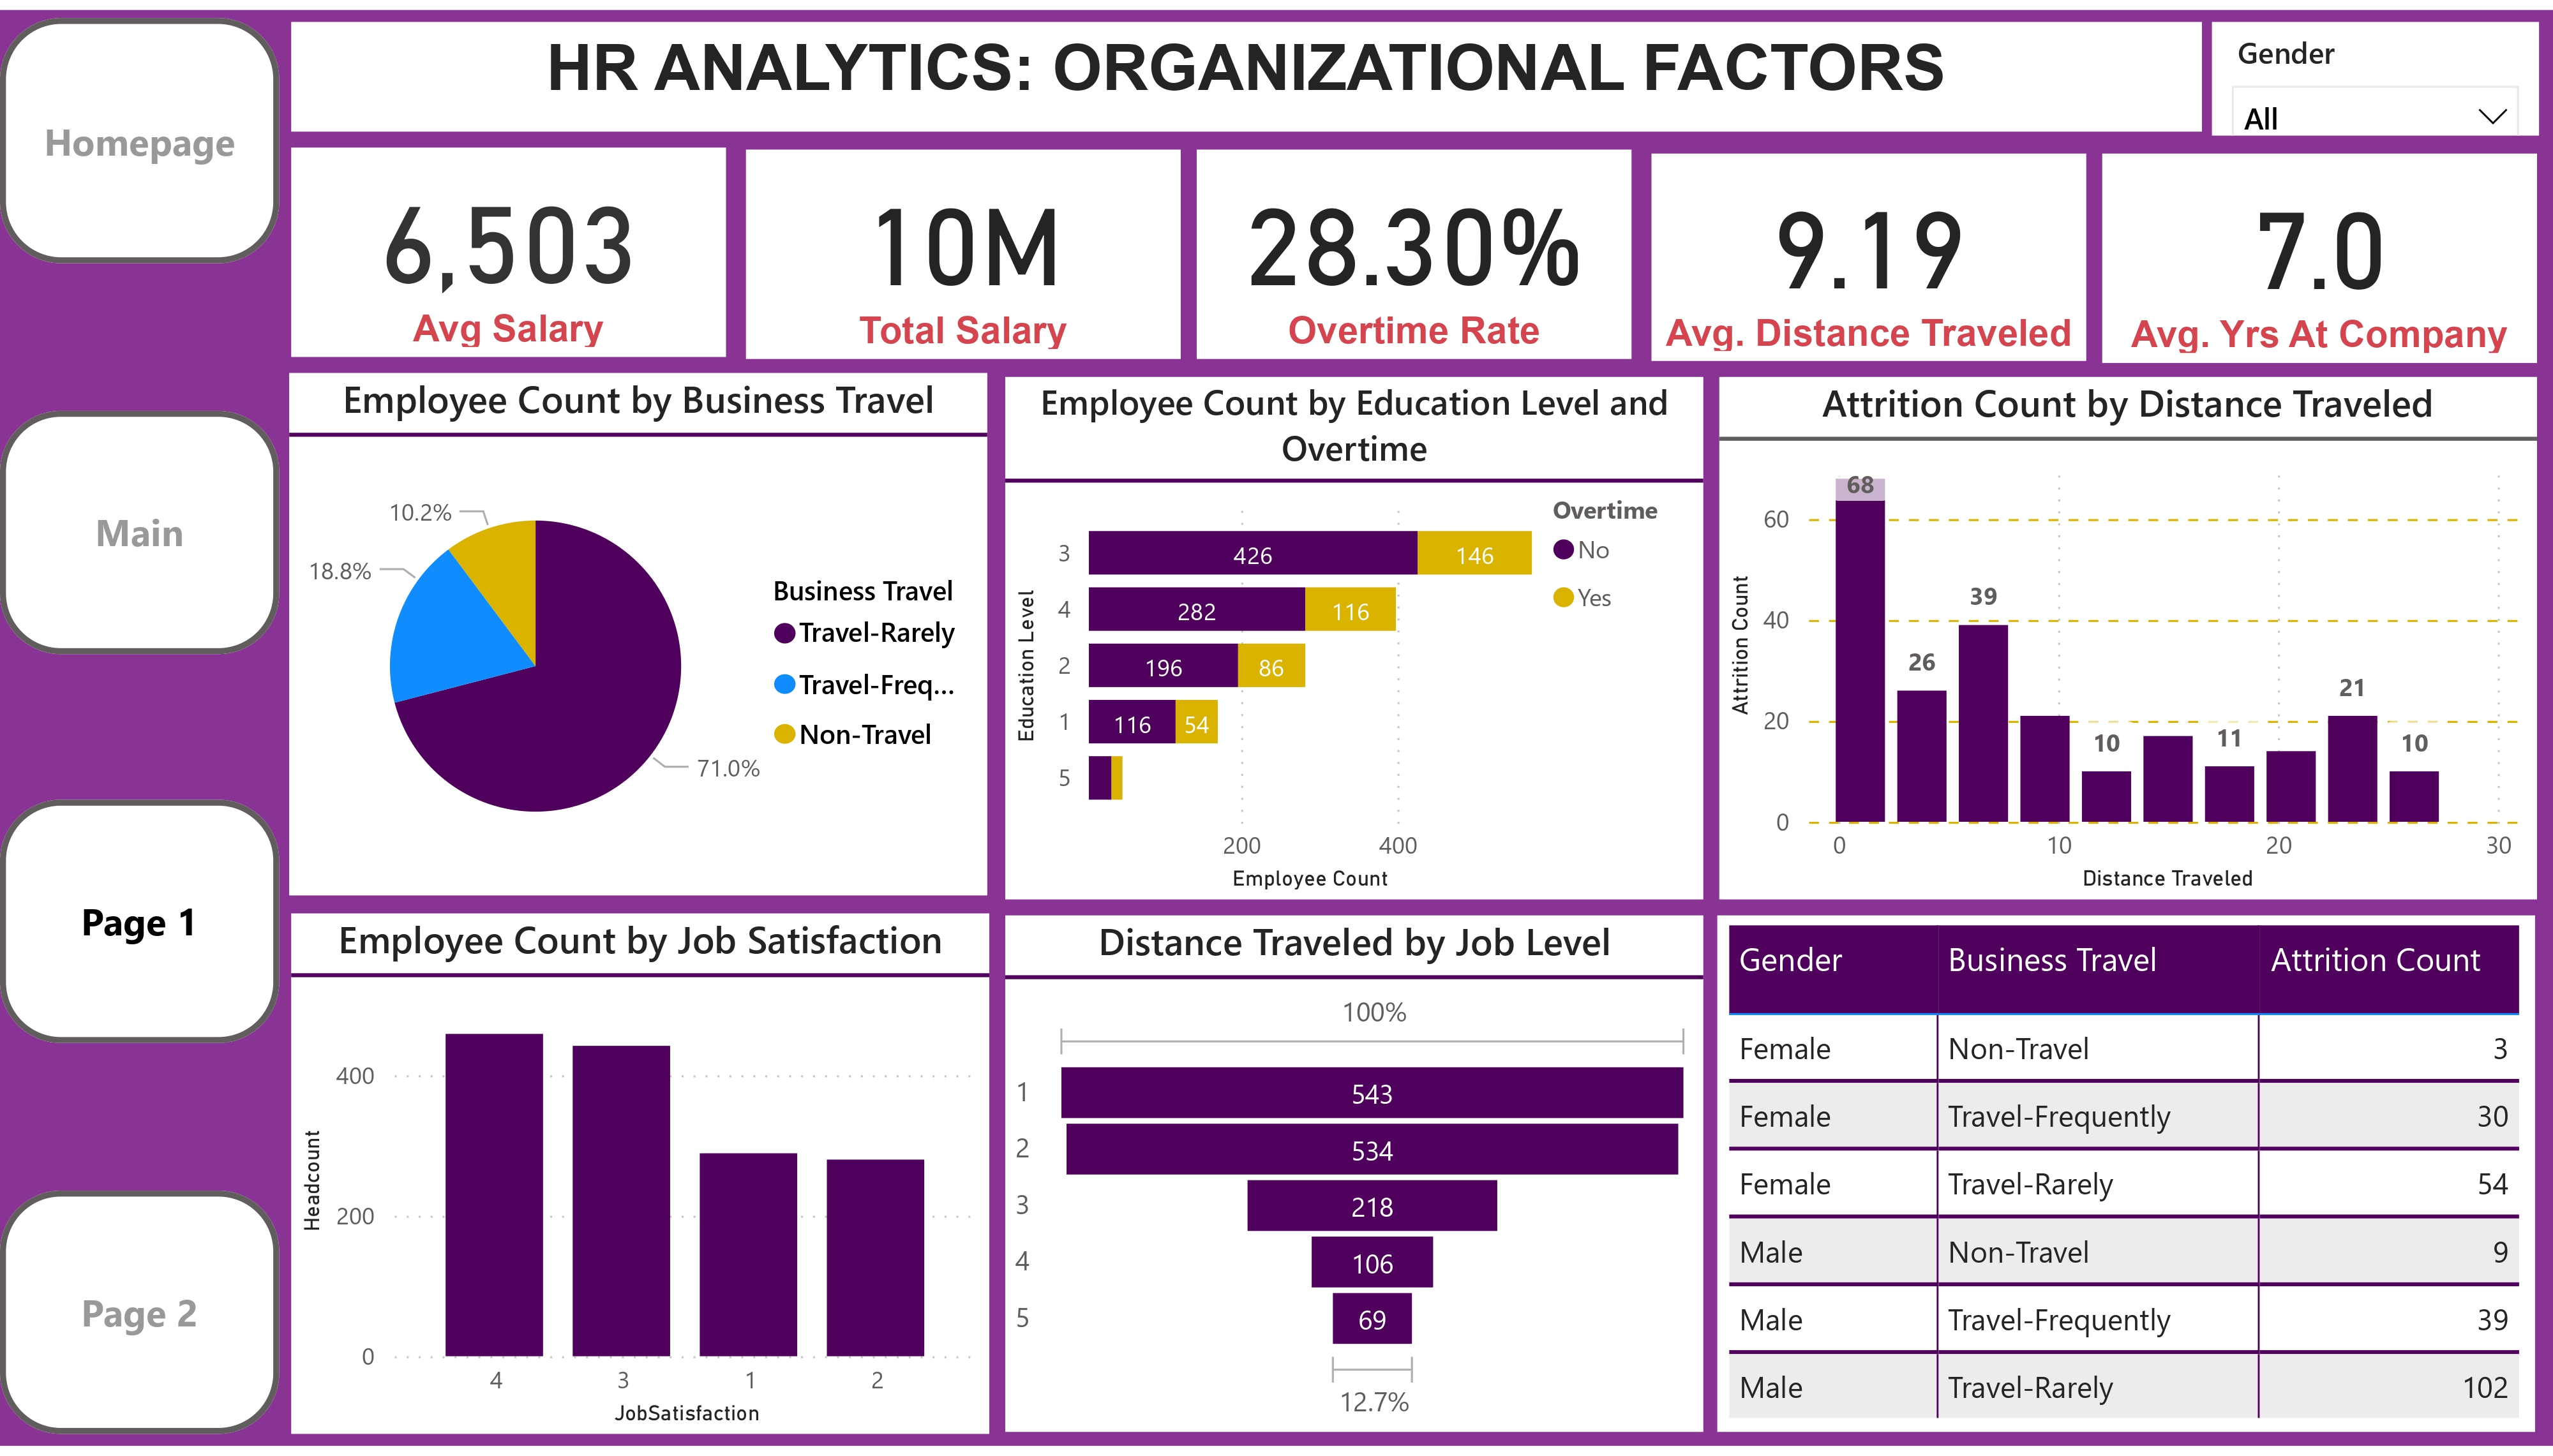

This screenshot's page, from the dashboard's own definition file:
{"tool":"powerbi","page":{"name":"P2","canvas":[1280,720],"ordinal":3},"visuals":[{"type":"pieChart","fields":{"Category":["Analysed_HR_Data.BusinessTravel"],"Y":["Sum(Analysed_HR_Data.EmployeeCount)"]},"box":[144.9,182.1,350.5,262],"z":0},{"type":"barChart","title":"Employee Count by Education Level and Overtime","fields":{"Category":["Analysed_HR_Data.Education Level"],"Series":["Analysed_HR_Data.OverTime"],"Y":["Sum(Analysed_HR_Data.EmployeeCount)"]},"box":[503.7,183.5,350.5,262.2],"z":1000},{"type":"columnChart","title":"Employee Count by Job Satisfaction","fields":{"Category":["Analysed_HR_Data.JobSatisfaction"],"Y":["Analysed_HR_Data.Headcount"]},"box":[146.3,452.6,350.5,260.8],"z":2000},{"type":"funnel","title":"Distance Traveled by Job Level","fields":{"Category":["Analysed_HR_Data.JobLevel"],"Y":["CountNonNull(Analysed_HR_Data.DistanceTraveled)"]},"box":[503.7,454,350.5,259.4],"z":3000},{"type":"card","fields":{"Values":["Analysed_HR_Data.Avg Salary"]},"box":[146.3,69,218,104.9],"z":4000},{"type":"card","fields":{"Values":["Analysed_HR_Data.Total Salary"]},"box":[374,70.4,218,104.9],"z":5000},{"type":"card","fields":{"Values":["Analysed_HR_Data.Overtime Rate"]},"box":[600.3,70.4,218,104.9],"z":6000},{"type":"card","fields":{"Values":["Analysed_HR_Data.Avg CommutingDistance"]},"box":[827.9,71.8,218,104],"z":7000},{"type":"card","fields":{"Values":["Analysed_HR_Data.Avg YearsAtCompany"]},"box":[1054.3,71.8,218,104.9],"z":8000},{"type":"lineStackedColumnComboChart","title":"Attrition Count by Distance Traveled","fields":{"Category":["Analysed_HR_Data.DistanceTraveled"],"Y":["Analysed_HR_Data.Attrition Count"]},"box":[862.4,183.5,409.8,262],"z":9000},{"type":"tableEx","fields":{"Values":["Analysed_HR_Data.Gender","Analysed_HR_Data.BusinessTravel","Analysed_HR_Data.Attrition Count"]},"box":[861.1,454,409.8,259.4],"z":10000},{"type":"textbox","box":[145.9,6,957.6,55.5],"z":11000},{"type":"slicer","fields":{"Values":["Analysed_HR_Data.Gender"]},"box":[1109.5,5.5,164.2,56.6],"z":12000},{"type":"actionButton","box":[0,200.6,140,122],"z":13000},{"type":"actionButton","box":[0,396.3,140,122],"z":14000},{"type":"actionButton","box":[0,592,140,122],"z":15000},{"type":"actionButton","box":[0,4.1,140,122.8],"z":16000}]}

Visuals, with their boxes in screenshot pixels (x1, y1, x2, y2), scaled from the page's 1280x720 canvas onto the 2553x1456 screenshot:
pieChart - Analysed_HR_Data.BusinessTravel x Sum(Analysed_HR_Data.EmployeeCount): x1=289, y1=368, x2=988, y2=898
"Employee Count by Education Level and Overtime" barChart: x1=1005, y1=371, x2=1703, y2=902
"Employee Count by Job Satisfaction" columnChart: x1=292, y1=915, x2=991, y2=1443
"Distance Traveled by Job Level" funnel: x1=1005, y1=918, x2=1703, y2=1443
card - Analysed_HR_Data.Avg Salary: x1=292, y1=140, x2=726, y2=352
card - Analysed_HR_Data.Total Salary: x1=746, y1=142, x2=1181, y2=355
card - Analysed_HR_Data.Overtime Rate: x1=1197, y1=142, x2=1632, y2=355
card - Analysed_HR_Data.Avg CommutingDistance: x1=1651, y1=145, x2=2086, y2=355
card - Analysed_HR_Data.Avg YearsAtCompany: x1=2103, y1=145, x2=2538, y2=357
"Attrition Count by Distance Traveled" lineStackedColumnComboChart: x1=1720, y1=371, x2=2538, y2=901
tableEx - Analysed_HR_Data.Gender x Analysed_HR_Data.BusinessTravel: x1=1718, y1=918, x2=2535, y2=1443
textbox: x1=291, y1=12, x2=2201, y2=124
slicer - Analysed_HR_Data.Gender: x1=2213, y1=11, x2=2540, y2=126
actionButton: x1=0, y1=406, x2=280, y2=652
actionButton: x1=0, y1=801, x2=280, y2=1048
actionButton: x1=0, y1=1197, x2=280, y2=1444
actionButton: x1=0, y1=8, x2=280, y2=256
